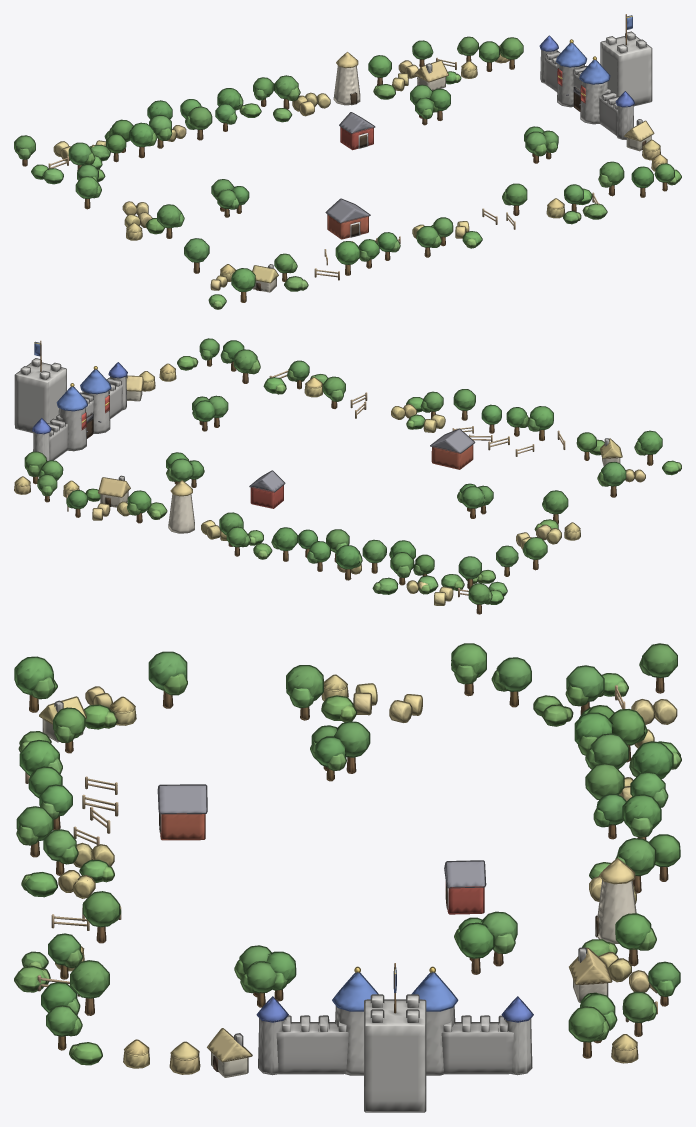
Rendered from hedgerow_fields.glb.
The picture shows the model from 3 angles, top to bottom: view 1: azimuth 30°, elevation 25°; view 2: azimuth 150°, elevation 25°; view 3: azimuth 270°, elevation 25°; orthographic projection. The views are drawn at different scales.
Visible parts, largest first — view 1: Baked_matte, Baked_matte_Outline; view 2: Baked_matte, Baked_matte_Outline; view 3: Baked_matte, Baked_matte_Outline.
Part boxes in pixels (x1=…): Baked_matte: x1=14, y1=14, x2=681, y2=308; Baked_matte_Outline: x1=14, y1=15, x2=681, y2=309; Baked_matte: x1=14, y1=339, x2=681, y2=613; Baked_matte_Outline: x1=14, y1=338, x2=681, y2=614; Baked_matte: x1=15, y1=644, x2=680, y2=1111; Baked_matte_Outline: x1=14, y1=643, x2=681, y2=1112.
Size of the model in its own units: 40.58 by 6.18 by 26.72.
